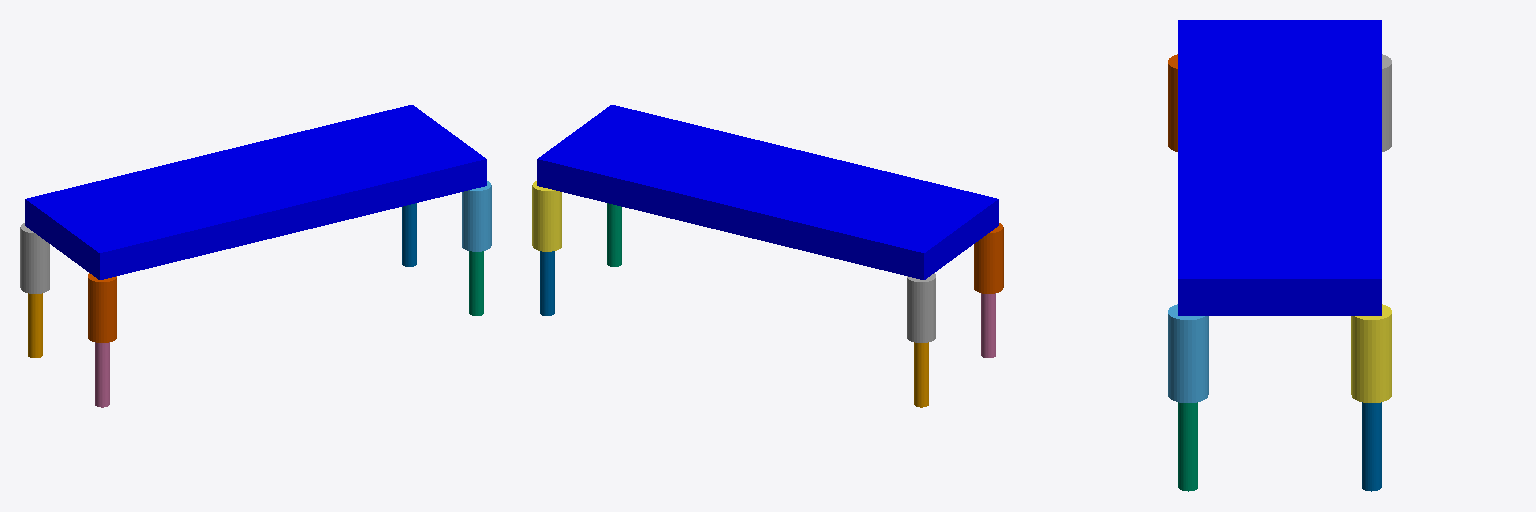
URDF robot description (quadruped_leg):
<?xml version="1.0"?>
<robot name="quadruped_leg"  xmlns:xacro="http://www.ros.org/wiki/xacro">

  <!-- <xacro:include filename="$(find spotmini)/urdf/trans.urdf.xacro"/> -->

  <material name="red">
    <color rgba="1.0 0.0 0.0 1.0"/>
  </material>
 <material name="green">
    <color rgba="0.0 1.0 0.0 1.0"/>
</material>  
<material name="blue">
    <color rgba="0.0 0.0 1.0 1.0"/>
</material>
<material name="white">
    <color rgba="1 1.0 1.0 1.0"/>
</material>

  <link name="base_link">
    <visual>
      <geometry>
        <box size="0.3 0.1 0.02"/>
        <origin xyz = "0 0 0.01" rpy =" 0 0 1.0"/>
      </geometry>
      <material name="blue"/>

    </visual>

    <inertial>
         <origin xyz="0 0 0.01" rpy="0 0 1.0"/>
         <mass value="1"/>
         <inertia ixx="0.11"  ixy="0"  ixz="0.0" iyy= "0.04" iyz="0" izz="0.02" />
       </inertial>
     <collision>
        <origin xyz = "0 0 1.50" rpy="0 0 0"/>
        <geometry>
          <box size="0.3 0.1 0.02"/>
        </geometry>
    </collision>
  </link>
 
  <link name="upperleg_M1_link">
    <visual>
      <geometry>
        <cylinder length="0.045" radius="0.01"/>
      </geometry>
      <origin rpy="0 0 0" xyz="0 0 -0.0225"/>
    </visual>

    <inertial>
        <origin rpy="0 0 0" xyz="0 0 -0.0225"/>
        <mass value="1"/>
         <inertia ixx="0.11"  ixy="0"  ixz="0.0" iyy= "0.04" iyz="0" izz="0.02" />
      </inertial>
     <collision>
        <origin rpy="0 0 0" xyz="0 0 -0.0225"/>
        <geometry>
          <cylinder length="0.045" radius="0.01"/>
        </geometry>
    </collision> 
  </link>
  
  <joint name="base_upperlegM1_joint" type="revolute">
    <axis xyz="0 1 0"/>
    <limit effort="1" lower="-0.39" upper="0.39" velocity="1.0"/>
    <parent link="base_link"/>
    <child link="upperleg_M1_link"/>
    <origin xyz="0.145 -0.045 -0.01"/>
  </joint>

  <link name="lowerleg_M1_link">
    <visual>
      <geometry>
        <cylinder length="0.05" radius="0.005"/>
      </geometry>
      <origin rpy="0 0 0" xyz="0 0 -0.025"/>
    </visual>

    <inertial>
        <origin rpy="0 0 0" xyz="0 0 -0.025"/>
        <mass value="1"/>
         <inertia ixx="0.11"  ixy="0"  ixz="0.0" iyy= "0.04" iyz="0" izz="0.02" />
      </inertial>
     <collision>
        <origin rpy="0 0 0" xyz="0 0 -0.025"/>
        <geometry>
          <cylinder length="0.05" radius="0.005"/>
        </geometry>
    </collision> 
  </link>
  
  <joint name="upperlegM1_lowerlegM1_joint" type="revolute">
    <axis xyz="0 1 0"/>
    <limit effort="1.0" lower="-0.39" upper="0.40" velocity="1.0"/>
    <parent link="upperleg_M1_link"/>
    <child link="lowerleg_M1_link"/>
    <origin xyz="0 0 -0.045"/>
  </joint>

  
  <link name="upperleg_M2_link">
    <visual>
      <geometry>
        <cylinder length="0.045" radius="0.01"/>
      </geometry>
      <origin rpy="0 0 0" xyz="0 0 -0.0225"/>
    </visual>
    <inertial>
        <origin rpy="0 0 0" xyz="0 0 -0.0225"/>
        <mass value="1"/>
         <inertia ixx="0.11"  ixy="0"  ixz="0.0" iyy= "0.04" iyz="0" izz="0.02" />
      </inertial>
     <collision>
        <origin rpy="0 0 0" xyz="0 0 -0.0225"/>
        <geometry>
          <cylinder length="0.045" radius="0.01"/>
        </geometry>
    </collision> 
  </link>
  


  <joint name="base_upperlegM2_joint" type="revolute">
    <axis xyz="0 1 0"/>
    <limit effort="1.0" lower="-1.57075" upper="1.57075" velocity="1.0"/>
    <parent link="base_link"/>
    <child link="upperleg_M2_link"/>
     <origin xyz="0.145 0.045 -0.01"/>
  </joint>


  <link name="lowerleg_M2_link">
    <visual>
      <geometry>
        <cylinder length="0.05" radius="0.005"/>
      </geometry>
      <origin rpy="0 0 0" xyz="0 0 -0.025"/>
    </visual>
    <inertial>
        <origin rpy="0 0 0" xyz="0 0 -0.025"/>
        <mass value="1"/>
         <inertia ixx="0.11"  ixy="0"  ixz="0.0" iyy= "0.04" iyz="0" izz="0.02" />
      </inertial>
     <collision>
        <origin rpy="0 0 0" xyz="0 0 -0.025"/>
        <geometry>
          <cylinder length="0.05" radius="0.005"/>
        </geometry>
    </collision> 

  </link>
  
  <joint name="upperlegM2_lowerlegM2_joint" type="revolute">
    <axis xyz="0 1 0"/>
    <limit effort="1.0" lower="-0.39" upper="0.39" velocity="1"/>
    <parent link="upperleg_M2_link"/>
    <child link="lowerleg_M2_link"/>
    <origin xyz="0 0 -0.045"/>
  </joint>


  <link name="upperleg_M3_link">
    <visual>
      <geometry>
        <cylinder length="0.045" radius="0.01"/>
      </geometry>
      <origin rpy="0 0 0" xyz="0 0 -0.0225"/>
    </visual>
    <inertial>
        <origin rpy="0 0 0" xyz="0 0 -0.0225"/>
        <mass value="1"/>
         <inertia ixx="0.11"  ixy="0"  ixz="0.0" iyy= "0.04" iyz="0" izz="0.02" />
      </inertial>
     <collision>
        <origin rpy="0 0 0" xyz="0 0 -0.0225"/>
        <geometry>
          <cylinder length="0.045" radius="0.01"/>
        </geometry>
    </collision>  
 
  </link>
  
  <joint name="base_upperlegM3_joint" type="revolute">
    <axis xyz="0 1 0"/>
    <limit effort="1.0" lower="-0.39" upper="0.39"  velocity="1.0"/>
    <parent link="base_link"/>
    <child link="upperleg_M3_link"/>
    <origin xyz="-0.145 -0.045 -0.01"/>
  </joint>

 
  <link name="lowerleg_M3_link">
    <visual>
      <geometry>
        <cylinder length="0.05" radius="0.005"/>
      </geometry>
      <origin rpy="0 0 0" xyz="0 0 -0.025"/>
    </visual>

    <inertial>
        <origin rpy="0 0 0" xyz="0 0 -0.025"/>
        <mass value="1"/>
         <inertia ixx="0.11"  ixy="0"  ixz="0.0" iyy= "0.04" iyz="0" izz="0.02" />
      </inertial>
     <collision>
        <origin rpy="0 0 0" xyz="0 0 -0.025"/>
        <geometry>
          <cylinder length="0.05" radius="0.005"/>
        </geometry>
    </collision>  

  </link>
  <joint name="upperlegM3_lowerlegM3_joint" type="revolute">
    <axis xyz="0 1 0"/>
    <limit effort="1.0"  lower="-0.39" upper="0.39" velocity="1.0"/>
    <parent link="upperleg_M3_link"/>
    <child link="lowerleg_M3_link"/>
    <origin xyz="0 0 -0.045"/>
  </joint>


  <link name="upperleg_M4_link">
    <visual>
      <geometry>
        <cylinder length="0.045" radius="0.01"/>
      </geometry>
      <origin rpy="0 0 0" xyz="0 0 -0.0225"/>
    </visual>

    <inertial>
        <origin rpy="0 0 0" xyz="0 0 -0.0225"/>
        <mass value="1"/>
         <inertia ixx="0.11"  ixy="0"  ixz="0.0" iyy= "0.04" iyz="0" izz="0.02" />
      </inertial>
     <collision>
        <origin rpy="0 0 0" xyz="0 0 -0.0225"/>
        <geometry>
          <cylinder length="0.045" radius="0.01"/>
        </geometry>
    </collision>  

  </link>
  
  <joint name="base_upperlegM4_joint" type="revolute">
    <axis xyz="0 1 0"/>
    <limit effort="1.0" lower="-0.39" upper="0.39" velocity="1.0"/>
    <parent link="base_link"/>
    <child link="upperleg_M4_link"/>
    <origin xyz="-0.145 0.045 -0.01"/>
  </joint>

 
  <link name="lowerleg_M4_link">
    <visual>
      <geometry>
        <cylinder length="0.05" radius="0.005"/>
      </geometry>
      <origin rpy="0 0 0" xyz="0 0 -0.025"/>
    </visual>
    <inertial>
        <origin rpy="0 0 0" xyz="0 0 -0.025"/>
        <mass value="1"/>
         <inertia ixx="0.11"  ixy="0"  ixz="0.0" iyy= "0.04" iyz="0" izz="0.02" />
      </inertial>
     <collision>
        <origin rpy="0 0 0" xyz="0 0 -0.025"/>
        <geometry>
          <cylinder length="0.05" radius="0.005"/>
        </geometry>
    </collision>  
  </link>
   
  <joint name="upperlegM4_lowerlegM4_joint" type="revolute">
    <axis xyz="0 1 0"/>
    <limit effort="1.0" lower="-0.39" upper="0.39" velocity="1.0"/>
    <parent link="upperleg_M4_link"/>
    <child link="lowerleg_M4_link"/>
    <origin xyz="0 0 -0.045"/>
  </joint>

</robot>

--- What the picture shows (computed from the rendered views, not written in the file) ---
The picture shows the robot from 3 angles, left to right: view 1: azimuth 30°, elevation 25°; view 2: azimuth 150°, elevation 25°; view 3: azimuth 270°, elevation 25°; orthographic projection.
Robot: quadruped_leg — 9 links, 8 joints (8 revolute); root link base_link; default pose: all joints at 0.
Links seen in each view (by area): view 1: base_link, upperleg_M1_link, upperleg_M3_link, upperleg_M4_link, lowerleg_M3_link, lowerleg_M1_link, lowerleg_M4_link, lowerleg_M2_link; view 2: base_link, upperleg_M2_link, upperleg_M4_link, upperleg_M3_link, lowerleg_M4_link, lowerleg_M2_link, lowerleg_M3_link, lowerleg_M1_link; view 3: base_link, upperleg_M1_link, upperleg_M2_link, lowerleg_M1_link, lowerleg_M2_link, upperleg_M3_link, upperleg_M4_link.
Link boxes in pixels (box(x1,y1,x2,y2)): base_link: box(25, 105, 486, 279); upperleg_M1_link: box(462, 181, 491, 251); upperleg_M3_link: box(88, 273, 116, 342); upperleg_M4_link: box(20, 223, 49, 293); lowerleg_M3_link: box(95, 342, 109, 407); lowerleg_M1_link: box(469, 251, 483, 315); lowerleg_M4_link: box(28, 293, 42, 357); lowerleg_M2_link: box(402, 203, 416, 266); base_link: box(537, 105, 998, 279); upperleg_M2_link: box(532, 181, 561, 251); upperleg_M4_link: box(907, 273, 935, 342); upperleg_M3_link: box(974, 223, 1003, 293); lowerleg_M4_link: box(914, 342, 928, 407); lowerleg_M2_link: box(540, 251, 554, 315); lowerleg_M3_link: box(981, 293, 995, 357); lowerleg_M1_link: box(607, 203, 621, 266); base_link: box(1178, 20, 1381, 315); upperleg_M1_link: box(1168, 304, 1208, 402); upperleg_M2_link: box(1351, 304, 1391, 402); lowerleg_M1_link: box(1178, 402, 1197, 491); lowerleg_M2_link: box(1362, 402, 1381, 491); upperleg_M3_link: box(1168, 54, 1177, 151); upperleg_M4_link: box(1382, 54, 1391, 151).
Bounding box of the posed robot: 0.31 × 0.11 × 0.115 m (x, y, z).
Geometry: primitives only (box / cylinder / sphere), no mesh files.